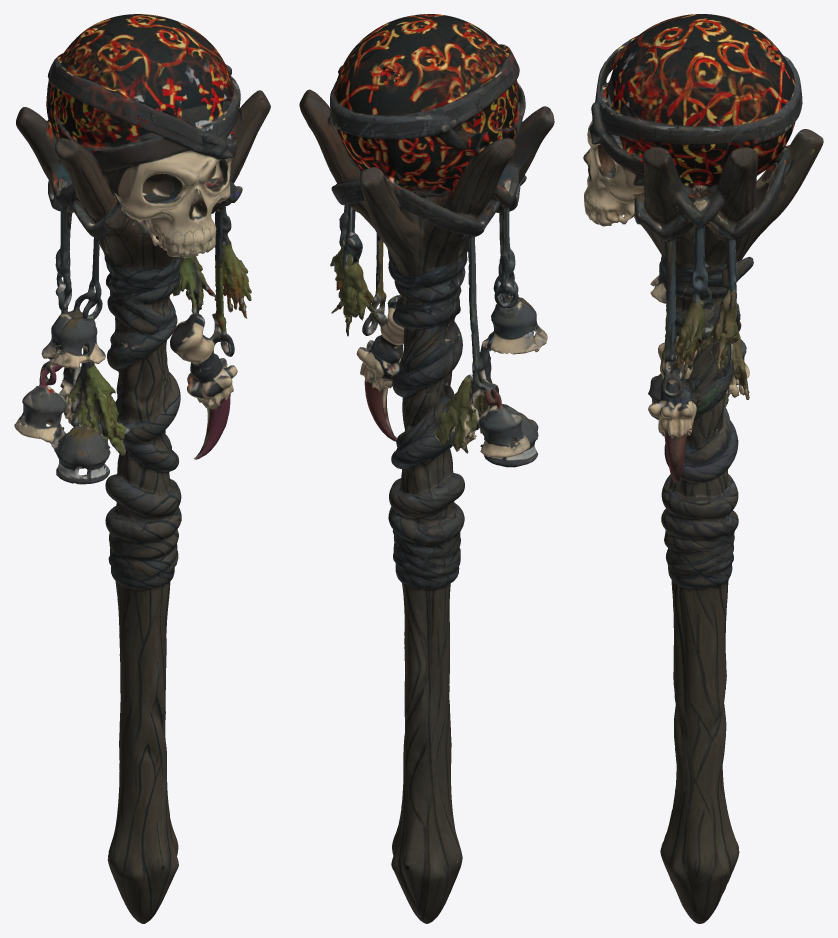
The model's file is ShamanStaff.glb.
3 views of the same model, side by side, from view 1: azimuth 30°, elevation 25°; view 2: azimuth 150°, elevation 25°; view 3: azimuth 270°, elevation 25° (orthographic).
Visible parts, largest first — view 1: texture_mapping; view 2: texture_mapping; view 3: texture_mapping.
Part boxes in pixels (x1,y1,x2,y2): texture_mapping: [14, 14, 270, 923]; texture_mapping: [299, 14, 554, 923]; texture_mapping: [583, 14, 823, 923].
Bounding box in the file's own units: 0.2537 × 0.9996 × 0.2417.
Materials: 1 (1 with a texture image).
